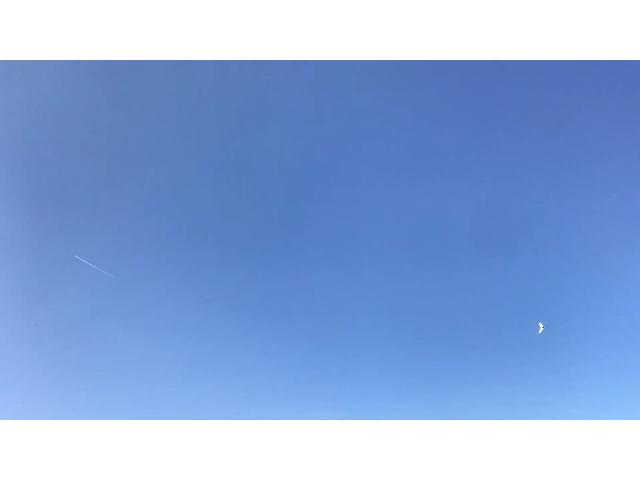Anti-Drone: (531, 320, 551, 335)
